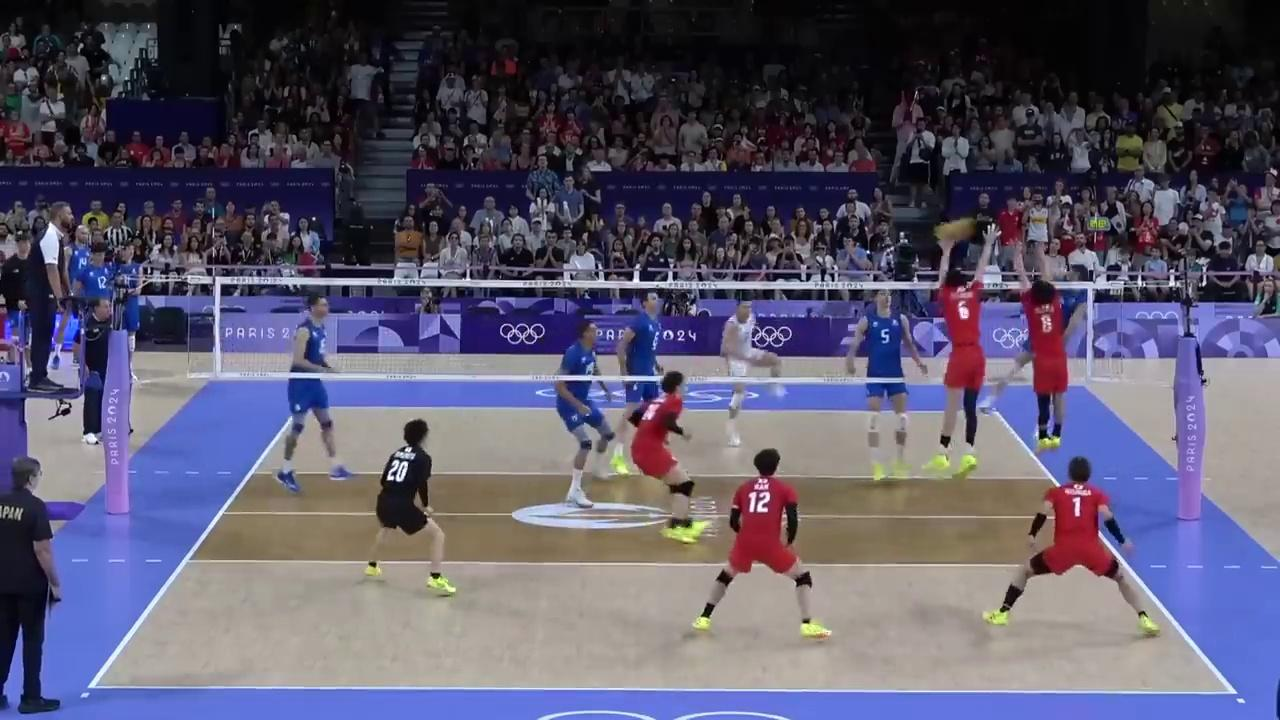ball: (938, 222, 971, 240)
